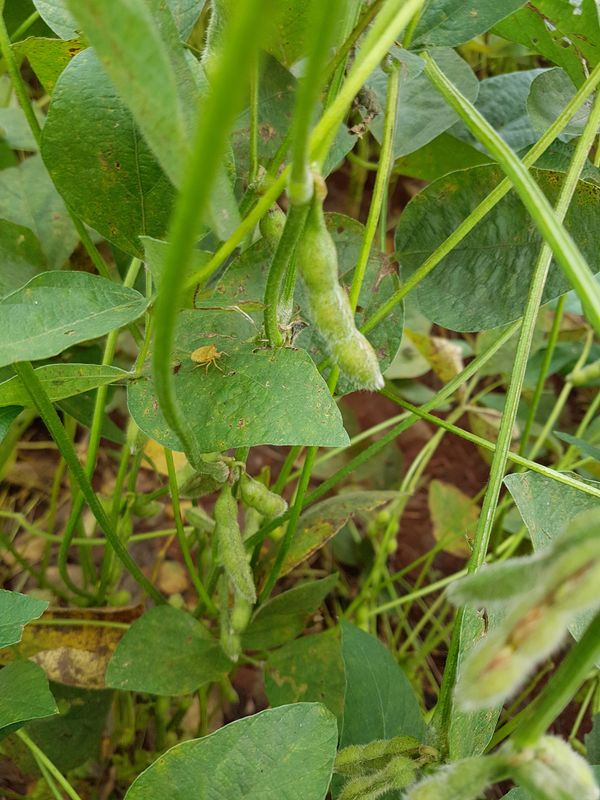Euschistus_heros_ninfa: (186, 341, 233, 378)
